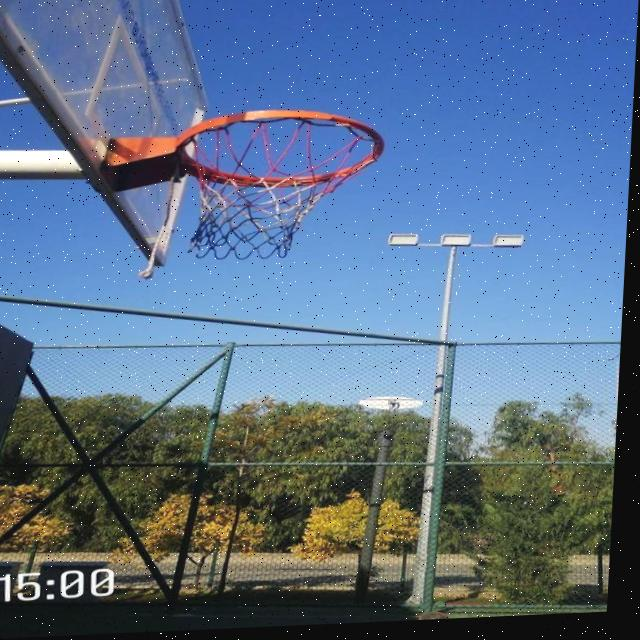hoop: (99, 99, 395, 297)
